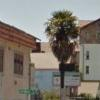Palm tree: (43, 7, 82, 90)
